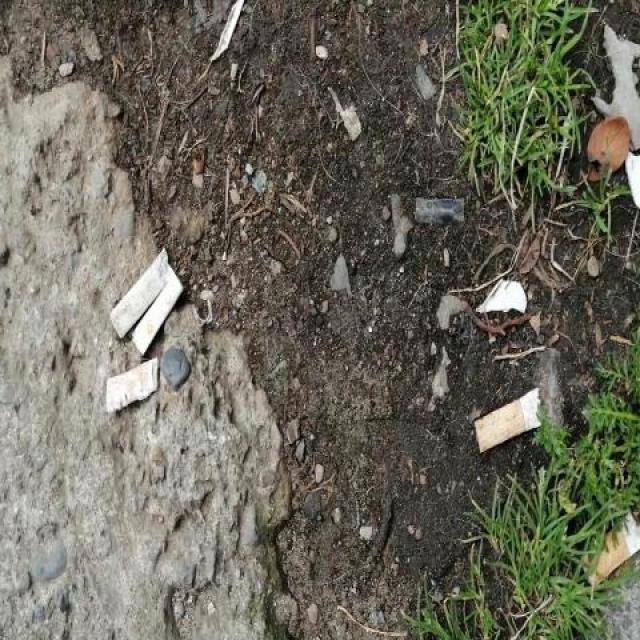non-organic waste: (469, 374, 555, 459), (106, 241, 174, 343), (132, 264, 200, 357), (580, 509, 640, 592), (100, 354, 172, 422)
